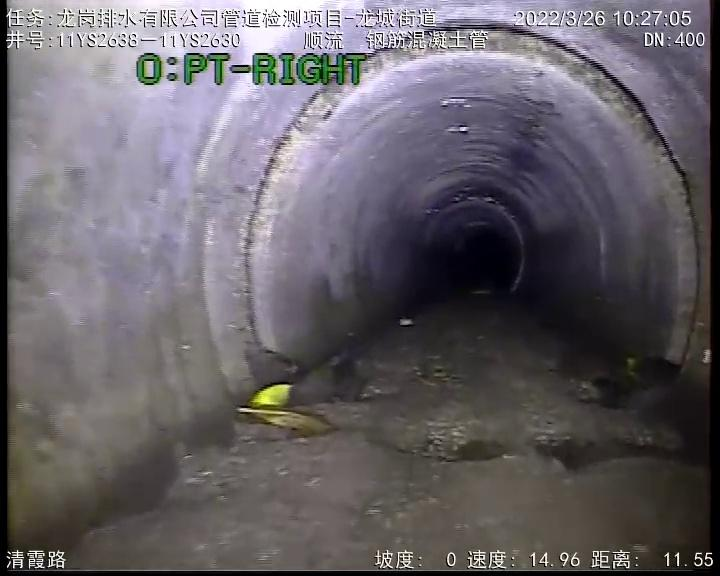CJ: (68, 293, 710, 568)
CKTJ: (243, 28, 702, 361)
